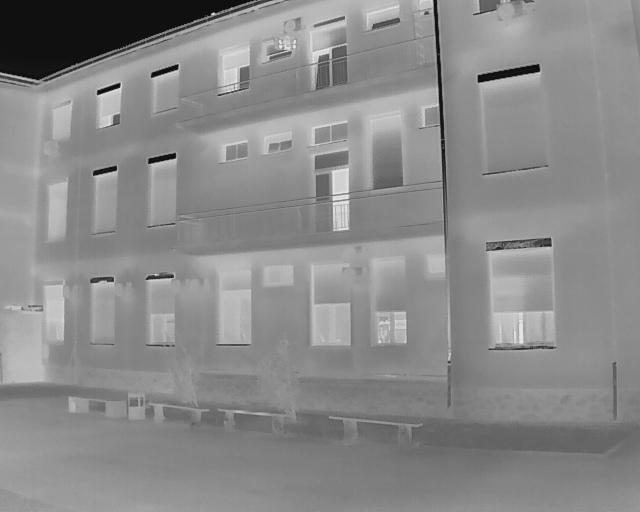drone: (256, 14, 318, 75)
